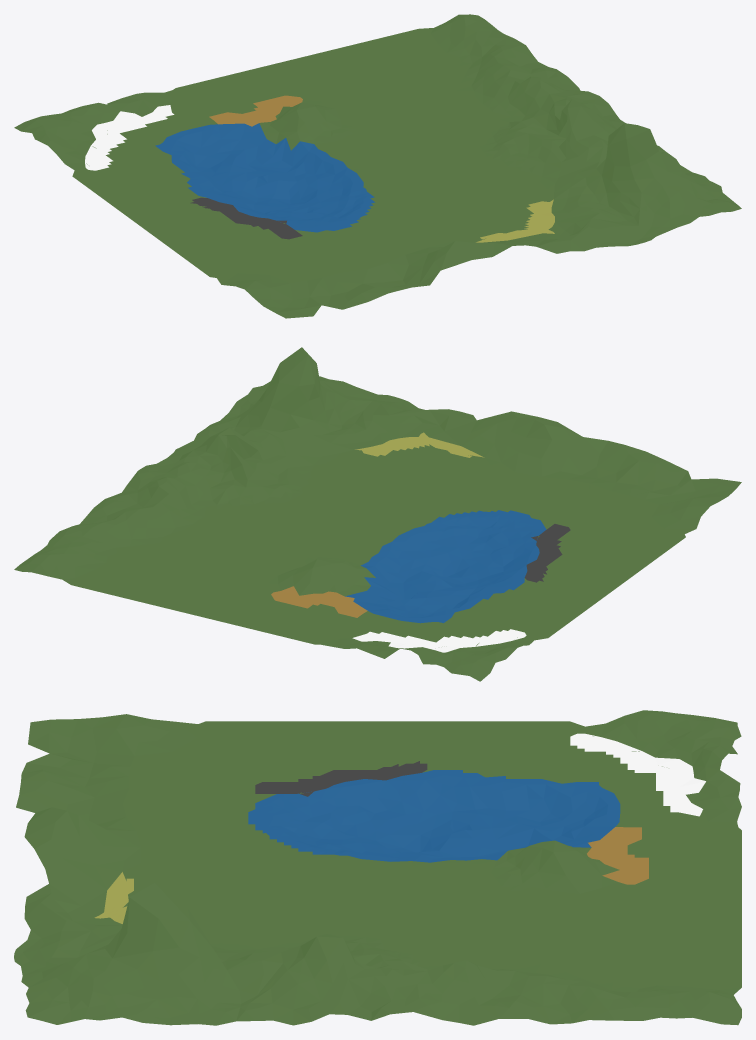
The model's file is firstterrain_principled.glb.
3 views of the same model, one above another, from view 1: azimuth 30°, elevation 25°; view 2: azimuth 150°, elevation 25°; view 3: azimuth 270°, elevation 25° (orthographic). The views are drawn at different scales.
Visible parts, largest first — view 1: Plane; view 2: Plane; view 3: Plane.
Boxes of the visible parts, x1,y1,x2,y2 form: Plane: [14, 14, 741, 318]; Plane: [14, 347, 741, 681]; Plane: [14, 710, 741, 1025].
Size of the model in its own units: 14.07 by 2.64 by 14.18.
